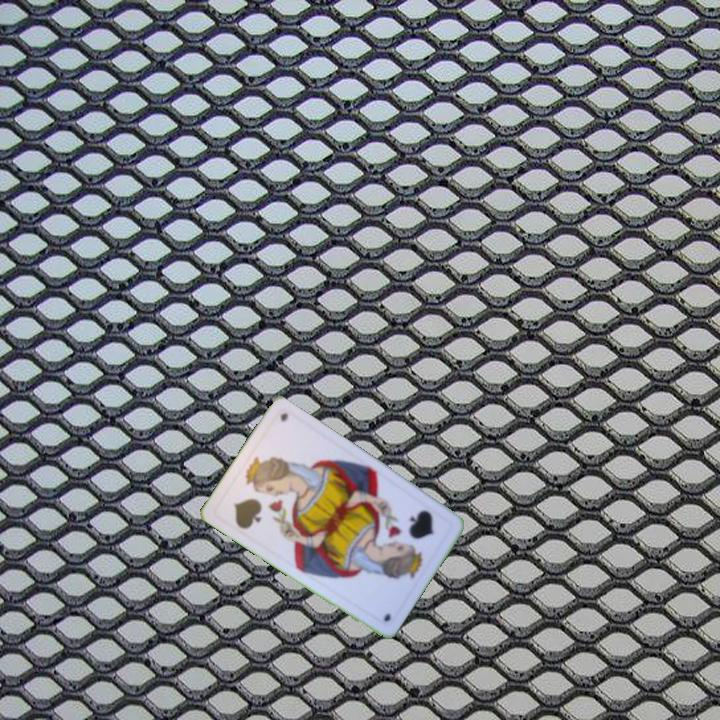s_q.png: (211, 458, 294, 544), (373, 492, 456, 577)
